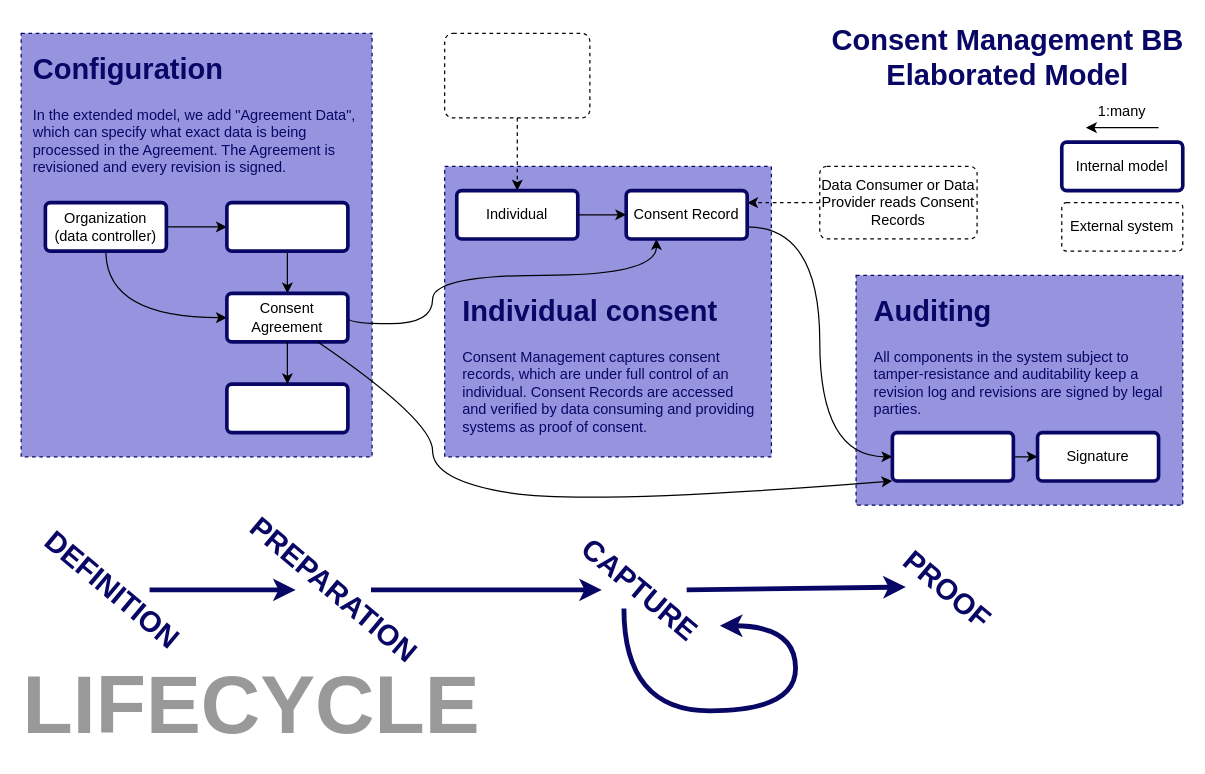
The diagram is 1205 pixels wide and 774 high, and some of its shapes have lost their labels. The box of each missing label's shape, as (x1, y1, x2, y2) in pixels:
Agreement Data: (224, 382, 349, 434)
External Registration (functional ID or foundational ID): (443, 32, 590, 118)
Policy (data policy): (224, 200, 349, 252)
Revision: (890, 430, 1015, 482)
